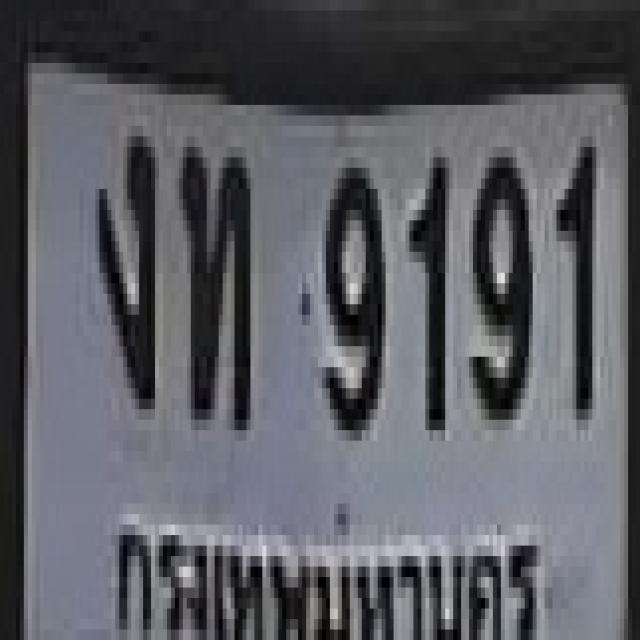-: (179, 136, 246, 410), (91, 126, 151, 399)
1: (552, 131, 592, 415), (406, 147, 446, 420)
9: (322, 157, 382, 430), (469, 147, 529, 409)
BKK: (107, 494, 548, 640)
